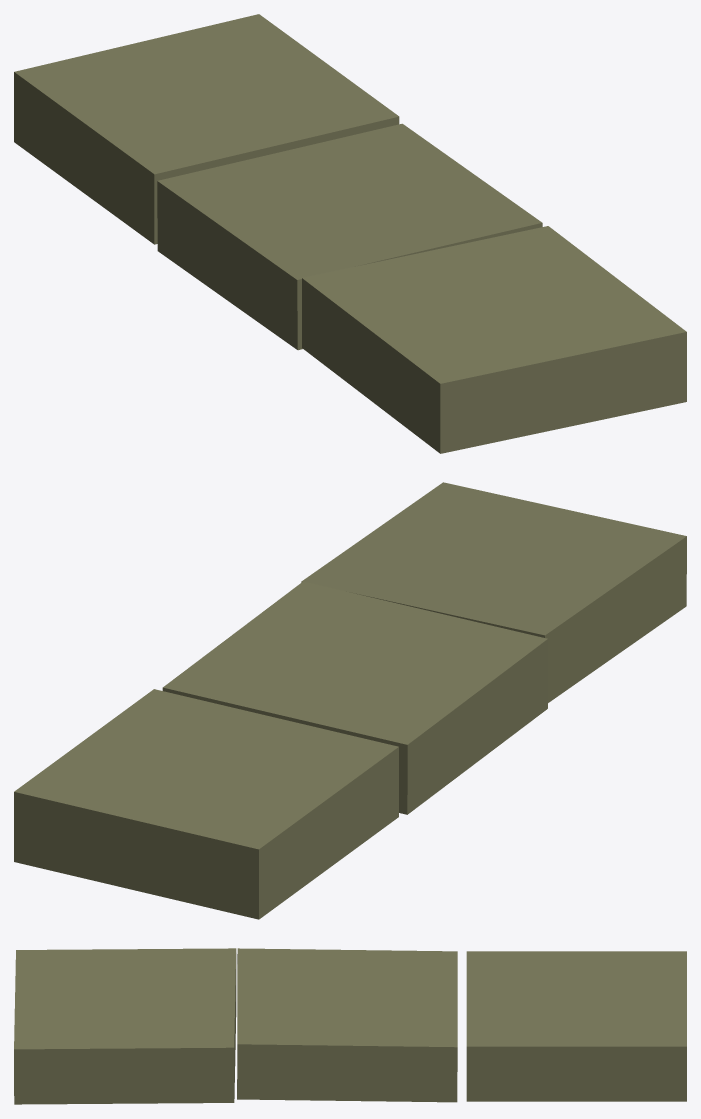
3 renders of one model, top to bottom at view 1: azimuth 30°, elevation 25°; view 2: azimuth 150°, elevation 25°; view 3: azimuth 270°, elevation 25°, orthographic. The views are drawn at different scales.
Visible parts, largest first — view 1: quad11, quad13, quad12; view 2: quad13, quad12, quad11; view 3: quad11, quad12, quad13.
Part boxes in pixels (x1,y1,x2,y2): quad11: [302, 226, 686, 453]; quad13: [14, 14, 399, 244]; quad12: [157, 123, 542, 350]; quad13: [14, 689, 398, 919]; quad12: [162, 581, 547, 814]; quad11: [301, 482, 686, 702]; quad11: [14, 948, 236, 1104]; quad12: [237, 948, 457, 1102]; quad13: [466, 951, 686, 1101].
Bounding box in the file's own units: 170 × 52.03 × 506.
